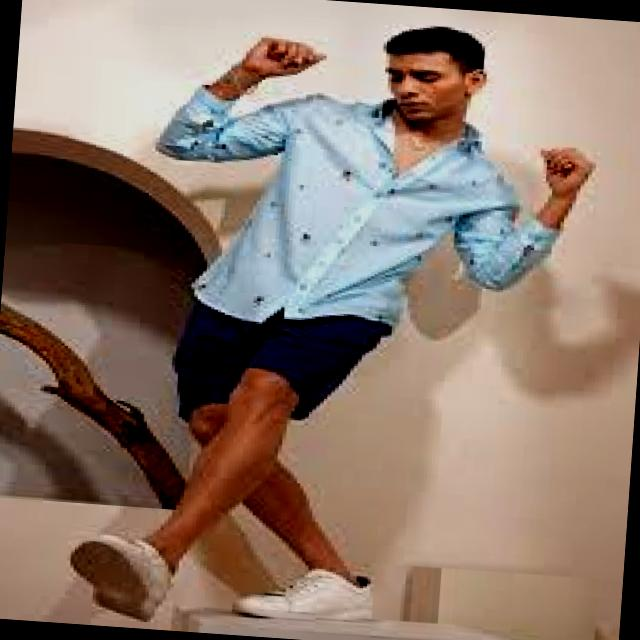face: (386, 52, 486, 123)
foot-wear: (71, 536, 171, 619), (232, 569, 373, 620)
lower-wear: (172, 302, 391, 420)
top-wear: (140, 81, 574, 341)
